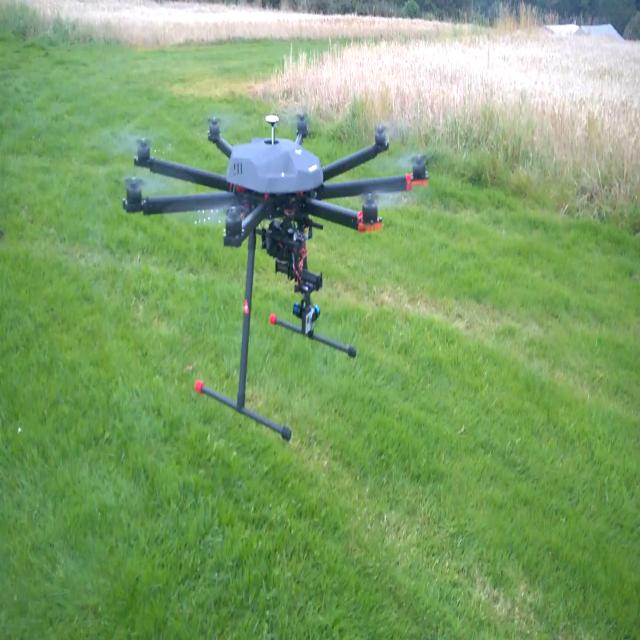drone: (96, 74, 435, 430)
